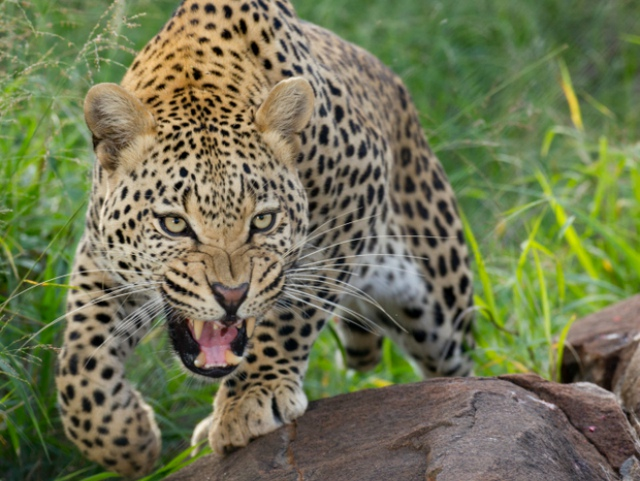leopard: (53, 3, 475, 476)
